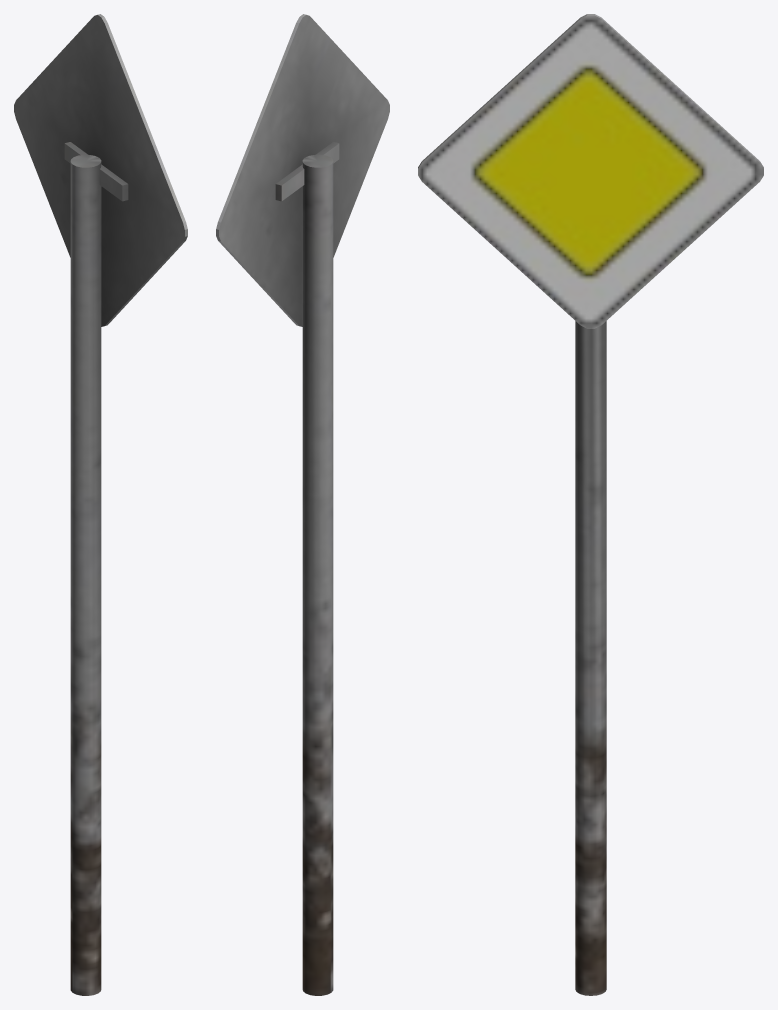
File: sg_main.glb
3 views of the same model, side by side, from view 1: azimuth 30°, elevation 25°; view 2: azimuth 150°, elevation 25°; view 3: azimuth 270°, elevation 25° (orthographic).
Parts seen in each view (by area): view 1: body|signs; view 2: body|signs; view 3: body|signs.
Part boxes in pixels (box(x1,y1,x2,y2)): body|signs: box(14, 14, 187, 995); body|signs: box(216, 14, 389, 995); body|signs: box(418, 14, 763, 995).
Bounding box in the file's own units: 0.0758 × 2.34 × 0.7475.
Materials: 1 (1 with a texture image).
